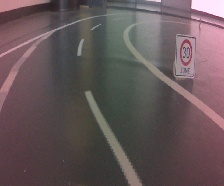zone 30 sign: (175, 31, 198, 79)
